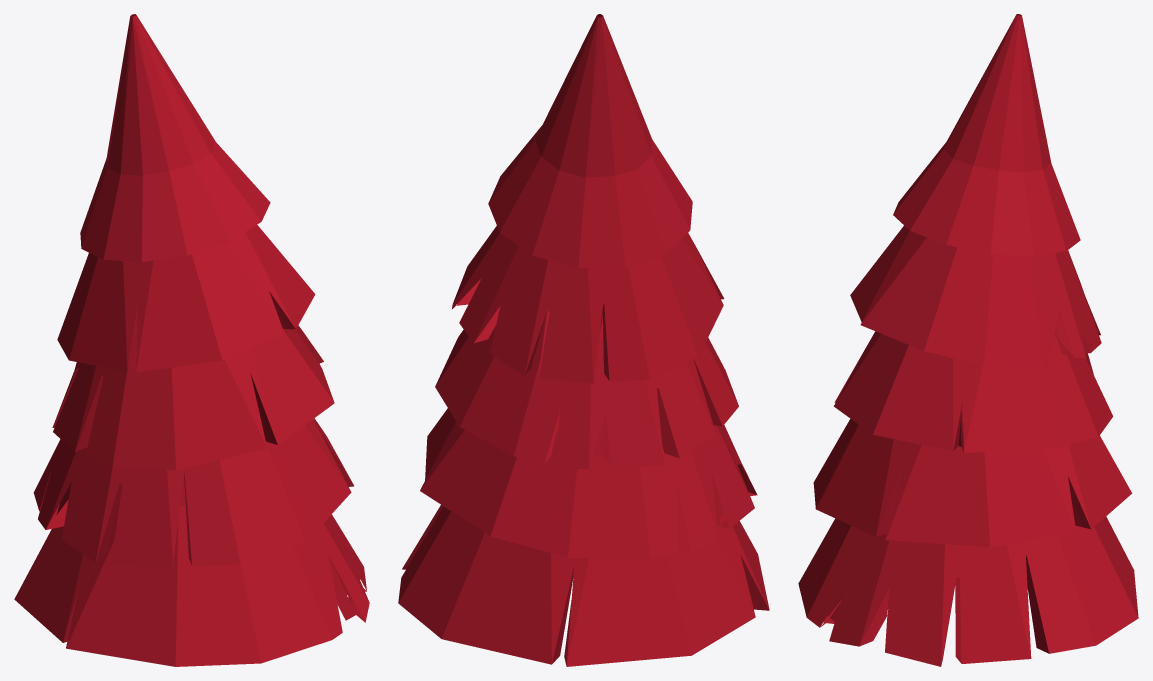
Rendered from tree-dead-leaves-15-045.glb.
3 renders of one model, left to right at view 1: azimuth 30°, elevation 25°; view 2: azimuth 150°, elevation 25°; view 3: azimuth 270°, elevation 25°, orthographic. The views are drawn at different scales.
Visible parts, largest first — view 1: TREE 15.015_506; view 2: TREE 15.015_506; view 3: TREE 15.015_506.
Boxes of the visible parts, left/top/right/bottom form: TREE 15.015_506: left=14, top=14, right=369, bottom=666; TREE 15.015_506: left=398, top=14, right=769, bottom=666; TREE 15.015_506: left=798, top=14, right=1138, bottom=666.
Bounding box in the file's own units: 0.8423 × 1.5 × 0.8185.
